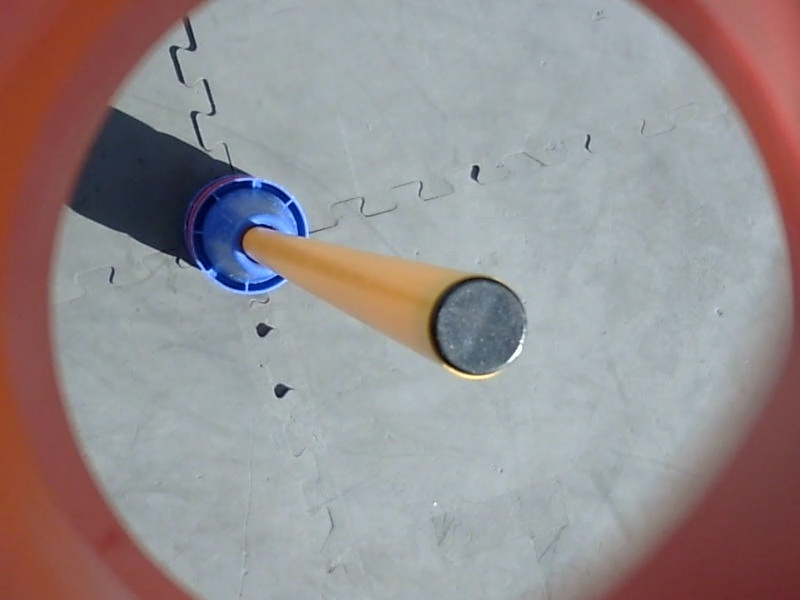tip: (419, 269, 536, 383)
